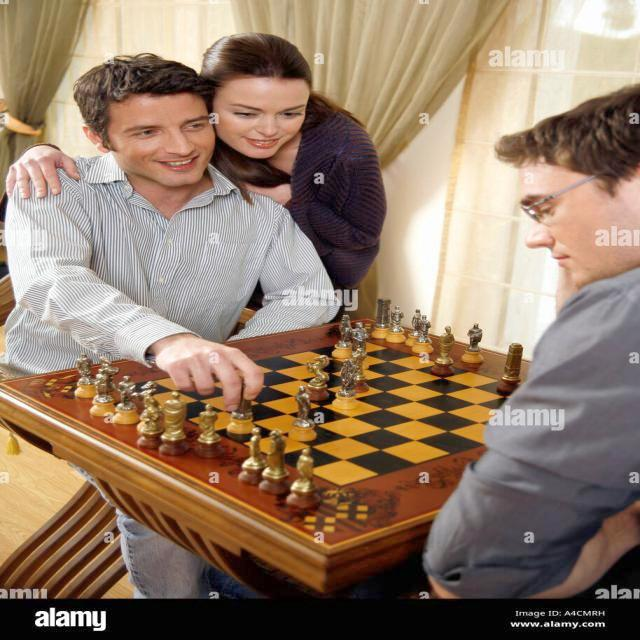chess-table-corners: (325, 474, 357, 493)
